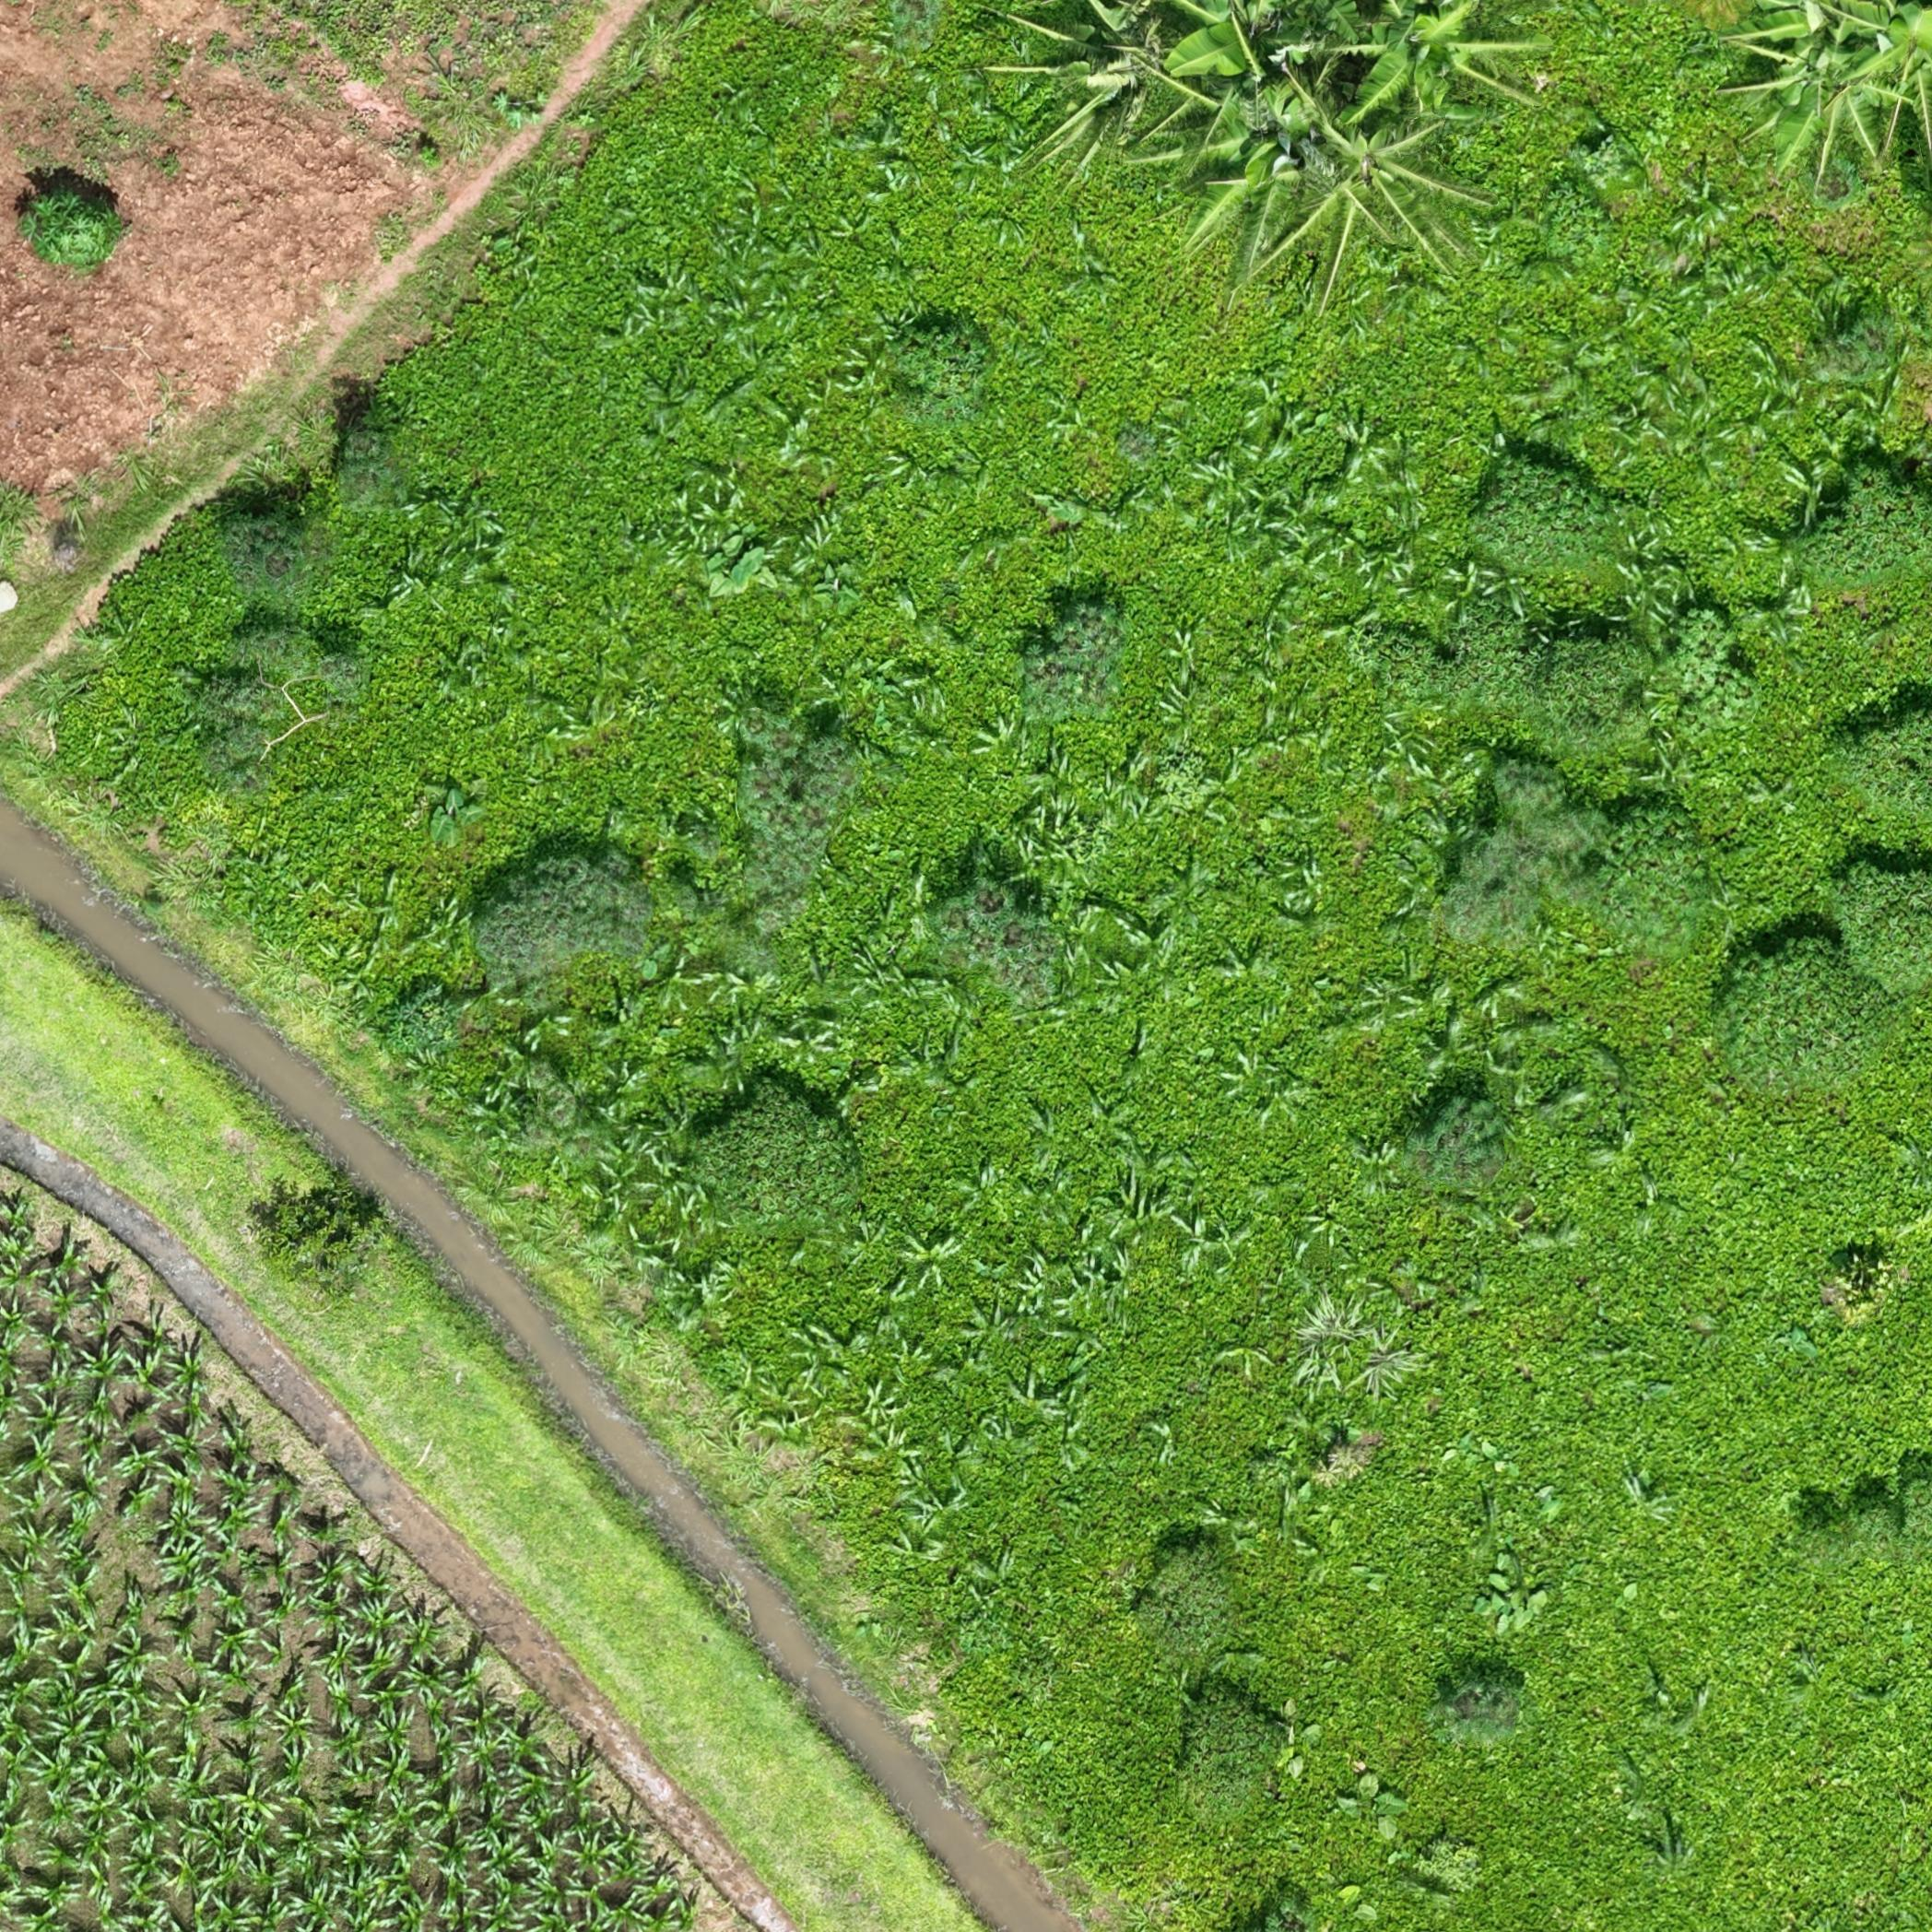Banana: (1292, 108, 1458, 276), (1003, 14, 1150, 157), (1345, 9, 1530, 115), (1175, 21, 1300, 161), (1750, 21, 1865, 149), (1840, 5, 1930, 152), (1224, 99, 1299, 258)
